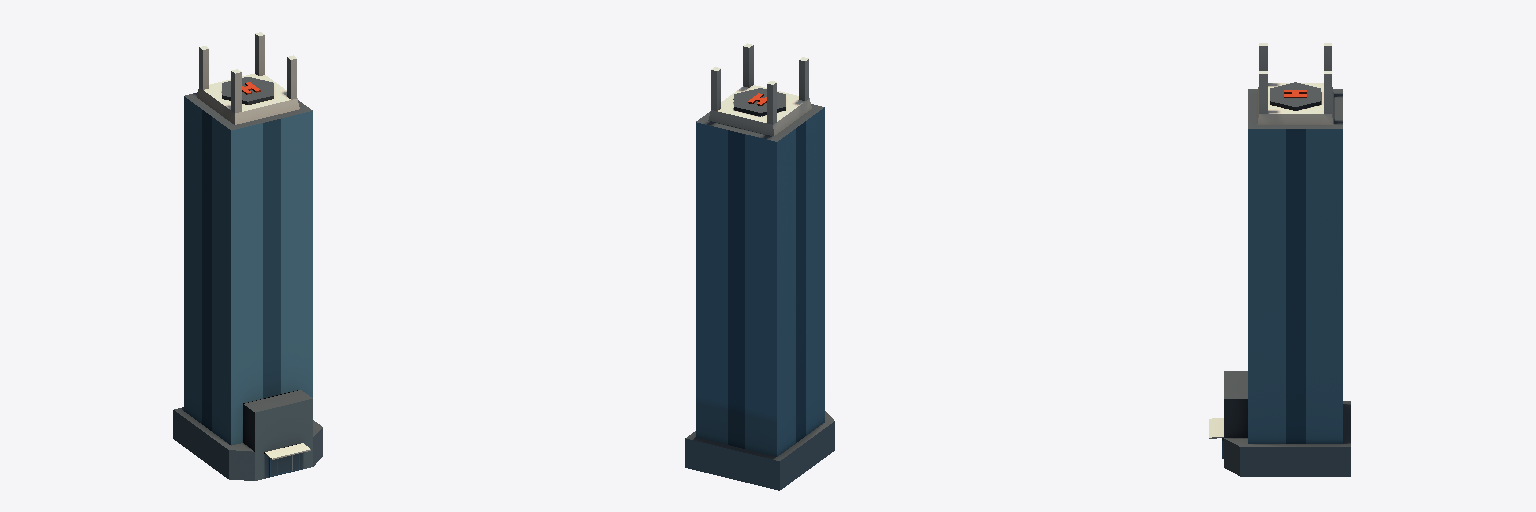
3 views of the same model, side by side, from view 1: azimuth 30°, elevation 25°; view 2: azimuth 150°, elevation 25°; view 3: azimuth 270°, elevation 25° (orthographic).
Parts seen in each view (by area): view 1: skyscraper; view 2: skyscraper; view 3: skyscraper.
Part boxes in pixels (left/top/right/bottom): skyscraper: left=173, top=32, right=322, bottom=480; skyscraper: left=685, top=43, right=834, bottom=490; skyscraper: left=1209, top=43, right=1350, bottom=476.
Bounding box in the file's own units: 0.9029 × 3.61 × 1.17.
Materials: 1 (1 with a texture image).